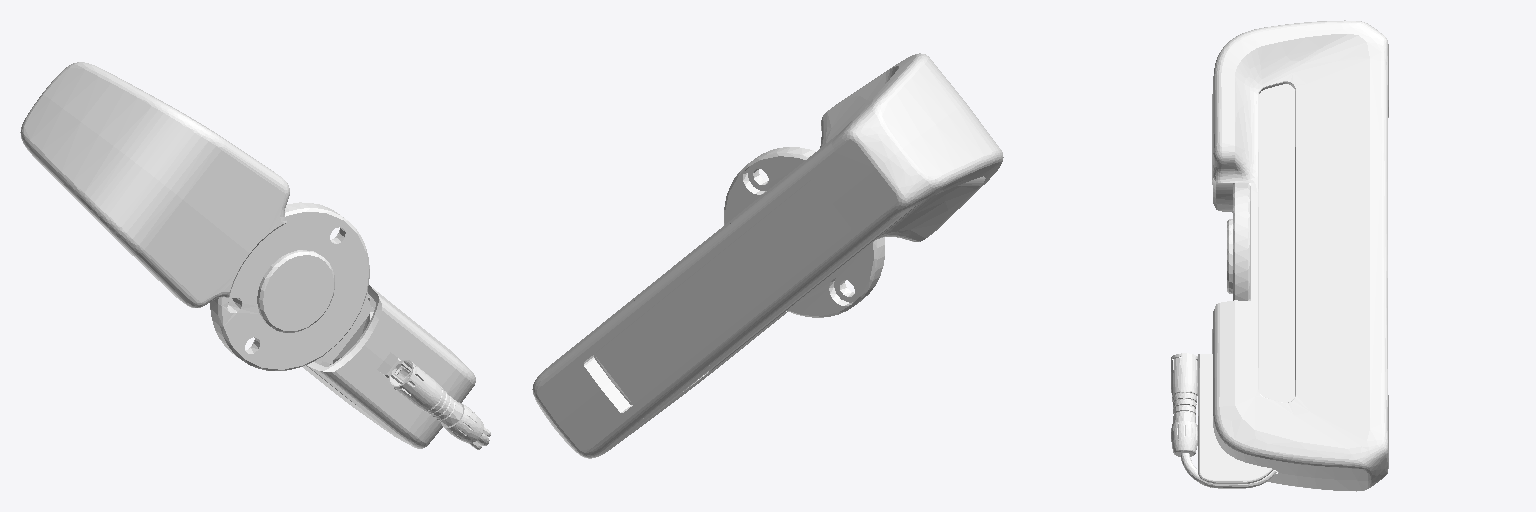
The robot description file, URDF, robot "ur5":
<?xml version="1.0" ?>
<!-- =================================================================================== -->
<!-- |    This document was autogenerated by xacro from [local-path]/devel/isae/install/share/hpp_practicals/urdf/ur5_joint_limited_robot.urdf.xacro | -->
<!-- |    EDITING THIS FILE BY HAND IS NOT RECOMMENDED                                 | -->
<!-- =================================================================================== -->


<robot name="ur5" xmlns:xacro="http://www.ros.org/wiki/xacro">

    <material name="panda_white">
        <color rgba="1. 1. 1. 1."/>
    </material>

  <link name="base_link">
    <visual>
      <geometry>
        <mesh filename="package://robots/ur5/meshes/visual/base.dae"/>
      </geometry>
      <material name="LightGrey">
        <color rgba="0.7 0.7 0.7 1.0"/>
      </material>
    </visual>
    <collision>
      <geometry>
        <mesh filename="package://robots/ur5/meshes/collision/base.stl"/>
      </geometry>
    </collision>
    <inertial>
      <mass value="4.0"/>
      <origin rpy="0 0 0" xyz="0.0 0.0 0.0"/>
      <inertia ixx="0.00443333156" ixy="0.0" ixz="0.0" iyy="0.00443333156" iyz="0.0" izz="0.0072"/>
    </inertial>
  </link>
  <joint name="shoulder_pan_joint" type="revolute">
    <parent link="base_link"/>
    <child link="shoulder_link"/>
    <origin rpy="0.0 0.0 0.0" xyz="0.0 0.0 0.089159"/>
    <axis xyz="0 0 1"/>
    <limit effort="150.0" lower="-3.14159265" upper="3.14159265" velocity="3.15"/>
    <dynamics damping="0.0" friction="0.0"/>
  </joint>
  <link name="shoulder_link">
    <visual>
      <geometry>
        <mesh filename="package://robots/ur5/meshes/visual/shoulder.dae"/>
      </geometry>
      <material name="LightGrey">
        <color rgba="0.7 0.7 0.7 1.0"/>
      </material>
    </visual>
    <collision>
      <geometry>
        <mesh filename="package://robots/ur5/meshes/collision/shoulder.stl"/>
      </geometry>
    </collision>
    <inertial>
      <mass value="3.7"/>
      <origin rpy="0 0 0" xyz="0.0 0.0 0.0"/>
      <inertia ixx="0.010267495893" ixy="0.0" ixz="0.0" iyy="0.010267495893" iyz="0.0" izz="0.00666"/>
    </inertial>
  </link>
  <joint name="shoulder_lift_joint" type="revolute">
    <parent link="shoulder_link"/>
    <child link="upper_arm_link"/>
    <origin rpy="0.0 1.570796325 0.0" xyz="0.0 0.13585 0.0"/>
    <axis xyz="0 1 0"/>
    <limit effort="150.0" lower="-3.14159265" upper="3.14159265" velocity="3.15"/>
    <dynamics damping="0.0" friction="0.0"/>
  </joint>
  <link name="upper_arm_link">
    <visual>
      <geometry>
        <mesh filename="package://robots/ur5/meshes/visual/upperarm.dae"/>
      </geometry>
      <material name="LightGrey">
        <color rgba="0.7 0.7 0.7 1.0"/>
      </material>
    </visual>
    <collision>
      <geometry>
        <mesh filename="package://robots/ur5/meshes/collision/upperarm.stl"/>
      </geometry>
    </collision>
    <inertial>
      <mass value="8.393"/>
      <origin rpy="0 0 0" xyz="0.0 0.0 0.28"/>
      <inertia ixx="0.22689067591" ixy="0.0" ixz="0.0" iyy="0.22689067591" iyz="0.0" izz="0.0151074"/>
    </inertial>
  </link>
  <joint name="elbow_joint" type="revolute">
    <parent link="upper_arm_link"/>
    <child link="forearm_link"/>
    <origin rpy="0.0 0.0 0.0" xyz="0.0 -0.1197 0.425"/>
    <axis xyz="0 1 0"/>
    <limit effort="150.0" lower="-3.14159265" upper="3.14159265" velocity="3.15"/>
    <dynamics damping="0.0" friction="0.0"/>
  </joint>
  <link name="forearm_link">
    <visual>
      <geometry>
        <mesh filename="package://robots/ur5/meshes/visual/forearm.dae"/>
      </geometry>
      <material name="LightGrey">
        <color rgba="0.7 0.7 0.7 1.0"/>
      </material>
    </visual>
    <collision>
      <geometry>
        <mesh filename="package://robots/ur5/meshes/collision/forearm.stl"/>
      </geometry>
    </collision>
    <inertial>
      <mass value="2.275"/>
      <origin rpy="0 0 0" xyz="0.0 0.0 0.25"/>
      <inertia ixx="0.049443313556" ixy="0.0" ixz="0.0" iyy="0.049443313556" iyz="0.0" izz="0.004095"/>
    </inertial>
  </link>
  <joint name="wrist_1_joint" type="revolute">
    <parent link="forearm_link"/>
    <child link="wrist_1_link"/>
    <origin rpy="0.0 1.570796325 0.0" xyz="0.0 0.0 0.39225"/>
    <axis xyz="0 1 0"/>
    <limit effort="28.0" lower="-3.14159265" upper="3.14159265" velocity="3.2"/>
    <dynamics damping="0.0" friction="0.0"/>
  </joint>
  <link name="wrist_1_link">
    <visual>
      <geometry>
        <mesh filename="package://robots/ur5/meshes/visual/wrist1.dae"/>
      </geometry>
      <material name="LightGrey">
        <color rgba="0.7 0.7 0.7 1.0"/>
      </material>
    </visual>
    <collision>
      <geometry>
        <mesh filename="package://robots/ur5/meshes/collision/wrist1.stl"/>
      </geometry>
    </collision>
    <inertial>
      <mass value="1.219"/>
      <origin rpy="0 0 0" xyz="0.0 0.0 0.0"/>
      <inertia ixx="0.111172755531" ixy="0.0" ixz="0.0" iyy="0.111172755531" iyz="0.0" izz="0.21942"/>
    </inertial>
  </link>
  <joint name="wrist_2_joint" type="revolute">
    <parent link="wrist_1_link"/>
    <child link="wrist_2_link"/>
    <origin rpy="0.0 0.0 0.0" xyz="0.0 0.093 0.0"/>
    <axis xyz="0 0 1"/>
    <limit effort="28.0" lower="-3.14159265" upper="3.14159265" velocity="3.2"/>
    <dynamics damping="0.0" friction="0.0"/>
  </joint>
  <link name="wrist_2_link">
    <visual>
      <geometry>
        <mesh filename="package://robots/ur5/meshes/visual/wrist2.dae"/>
      </geometry>
      <material name="LightGrey">
        <color rgba="0.7 0.7 0.7 1.0"/>
      </material>
    </visual>
    <collision>
      <geometry>
        <mesh filename="package://robots/ur5/meshes/collision/wrist2.stl"/>
      </geometry>
    </collision>
    <inertial>
      <mass value="1.219"/>
      <origin rpy="0 0 0" xyz="0.0 0.0 0.0"/>
      <inertia ixx="0.111172755531" ixy="0.0" ixz="0.0" iyy="0.111172755531" iyz="0.0" izz="0.21942"/>
    </inertial>
  </link>
  <joint name="wrist_3_joint" type="revolute">
    <parent link="wrist_2_link"/>
    <child link="wrist_3_link"/>
    <origin rpy="0.0 0.0 0.0" xyz="0.0 0.0 0.09465"/>
    <axis xyz="0 1 0"/>
    <limit effort="28.0" lower="-3.14159265" upper="3.14159265" velocity="3.2"/>
    <dynamics damping="0.0" friction="0.0"/>
  </joint>
  <link name="wrist_3_link">
    <visual>
      <geometry>
        <mesh filename="package://robots/ur5/meshes/visual/wrist3.dae"/>
      </geometry>
      <material name="LightGrey">
        <color rgba="0.7 0.7 0.7 1.0"/>
      </material>
    </visual>
    <collision>
      <geometry>
        <mesh filename="package://robots/ur5/meshes/collision/wrist3.stl"/>
      </geometry>
    </collision>
    <inertial>
      <mass value="0.1879"/>
      <origin rpy="0 0 0" xyz="0.0 0.0 0.0"/>
      <inertia ixx="0.0171364731454" ixy="0.0" ixz="0.0" iyy="0.0171364731454" iyz="0.0" izz="0.033822"/>
    </inertial>
  </link>

  <link name="tool0">
    <inertial>
      <mass value="0.1"/>
      <origin rpy="0 0 0" xyz="0.0 0.0 0.0"/>
      <inertia ixx="0.0" ixy="0.0" ixz="0.0" iyy="0.0" iyz="0.0" izz="0.0"/>
    </inertial>
  </link>

  <joint name="wrist_3_link-tool0_fixed_joint" type="fixed">
    <origin rpy="-1.570796325 0 0" xyz="0 0.0823 0"/>
    <parent link="wrist_3_link"/>
    <child link="tool0"/>
  </joint>

    <joint name="panda_hand_joint" type="fixed">
        <parent link="tool0"/>
        <child link="panda_hand"/>
        <origin rpy="0 0 -0.785398163397" xyz="0 0 0"/>
    </joint>

    <link name="panda_hand">
        <inertial>
            <origin rpy="0 0 0" xyz="0 0 0.04"/>
            <mass value="0.81"/>
            <inertia ixx="0.1" ixy="0" ixz="0" iyy="0.1" iyz="0" izz="0.1"/>
        </inertial>
        <visual>
            <geometry>
                <mesh filename="package://robots/franka_panda/meshes/visual/hand.dae"/>
            </geometry>
            <material name="panda_white"/>
        </visual>
        <collision>
            <geometry>
                <mesh filename="package://robots/franka_panda/meshes/collision/hand.stl"/>
            </geometry>
            <material name="panda_white"/>
        </collision>
    </link>
</robot>

--- Facts derived from the render (not from the file) ---
Views: 3 orthographic renders of the robot side by side, from view 1: azimuth 30°, elevation 25°; view 2: azimuth 150°, elevation 25°; view 3: azimuth 270°, elevation 25°.
Robot: ur5 — 9 links, 8 joints (6 revolute, 2 fixed); root link base_link; default pose: all joints at 0.
Links seen in each view (by area): view 1: panda_hand; view 2: panda_hand; view 3: panda_hand.
Link boxes in pixels (x1,y1,x2,y2): panda_hand: (20, 62, 490, 449); panda_hand: (532, 53, 1003, 458); panda_hand: (1171, 20, 1388, 491).
Bounding box of the posed robot: 0.1649 × 0.0919 × 0.1649 m (x, y, z).
Meshes: 8 distinct files referenced, 1 mesh visuals loaded (1 Collada DAE); not drawn: 7 (reference not matched to a file when rendering).